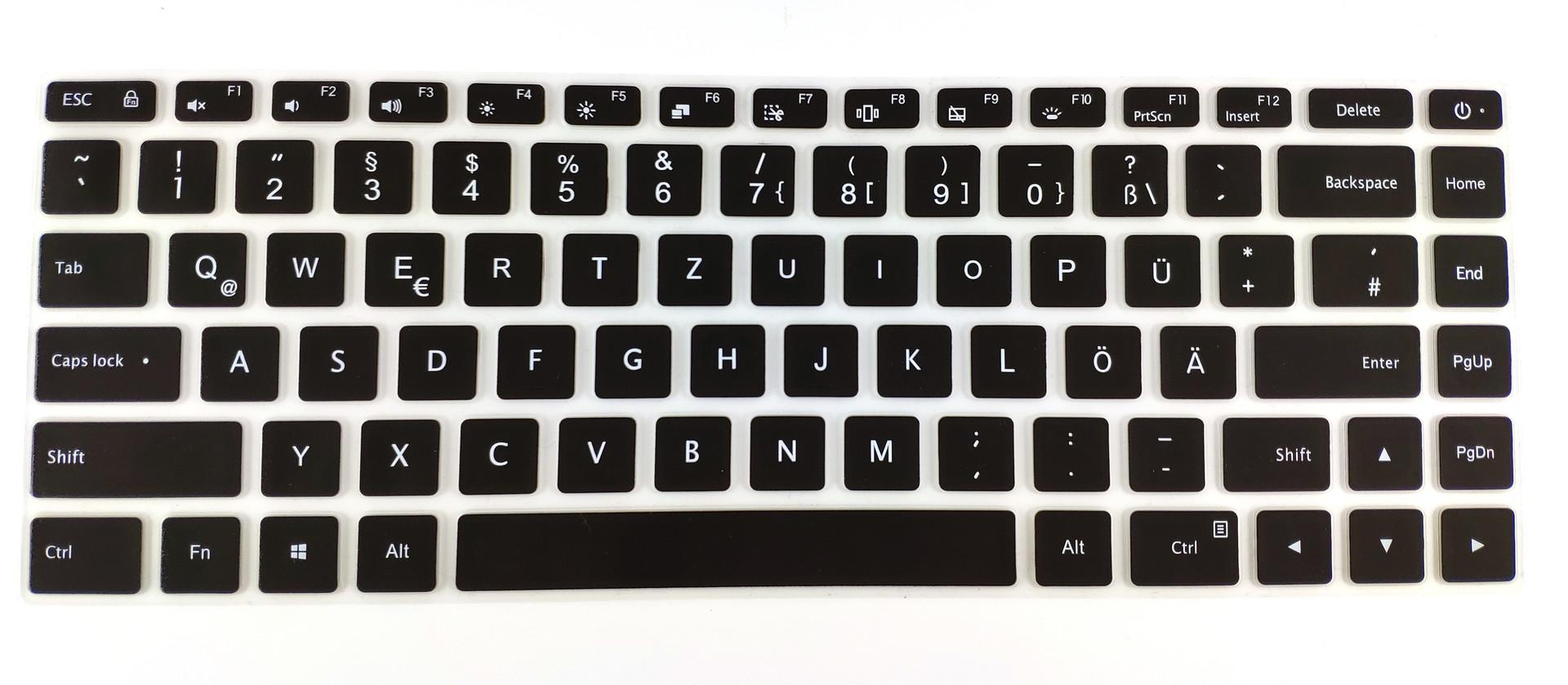0: (994, 140, 1075, 216)
1: (134, 134, 216, 211)
2: (232, 134, 314, 214)
3: (329, 136, 413, 214)
4: (429, 137, 510, 214)
5: (525, 138, 608, 214)
6: (622, 139, 703, 215)
7: (716, 141, 795, 216)
8: (807, 142, 888, 216)
9: (900, 142, 981, 216)
a: (198, 321, 280, 400)
accent: (1182, 139, 1260, 214)
ae: (1155, 320, 1236, 398)
alt-left: (354, 510, 436, 590)
altgr-right: (1031, 505, 1111, 585)
b: (650, 410, 731, 489)
c: (454, 412, 538, 493)
comma: (934, 410, 1013, 488)
d: (394, 320, 478, 399)
del: (1272, 140, 1414, 216)
e: (360, 227, 444, 306)
enter: (1249, 319, 1418, 397)
f: (494, 320, 576, 397)
g: (590, 319, 670, 398)
h: (685, 318, 764, 396)
hash: (1307, 229, 1418, 305)
i: (840, 229, 916, 303)
j: (781, 318, 858, 394)
k: (873, 318, 952, 396)
keyboard: (10, 64, 1530, 607)
l: (966, 319, 1045, 397)
m: (839, 410, 920, 488)
minus: (1124, 411, 1203, 489)
n: (745, 410, 826, 488)
o: (933, 229, 1010, 305)
oe: (1060, 321, 1140, 398)
p: (1024, 229, 1105, 305)
plus: (1214, 229, 1292, 305)
point: (1028, 411, 1108, 488)
q: (163, 227, 247, 307)
r: (461, 227, 542, 305)
s: (296, 321, 379, 399)
shift-left: (29, 414, 243, 496)
shift-lock: (29, 318, 180, 400)
shift-right: (1220, 411, 1330, 490)
space: (448, 505, 1013, 587)
ss: (1087, 140, 1167, 215)
strg-left: (21, 511, 140, 592)
strg-right: (1125, 506, 1239, 585)
t: (559, 228, 638, 304)
tab: (33, 226, 147, 305)
u: (746, 229, 824, 305)
ue: (1119, 229, 1199, 305)
v: (553, 411, 636, 491)
w: (261, 226, 345, 305)
x: (356, 414, 440, 493)
y: (259, 415, 341, 495)
z: (653, 229, 732, 305)
